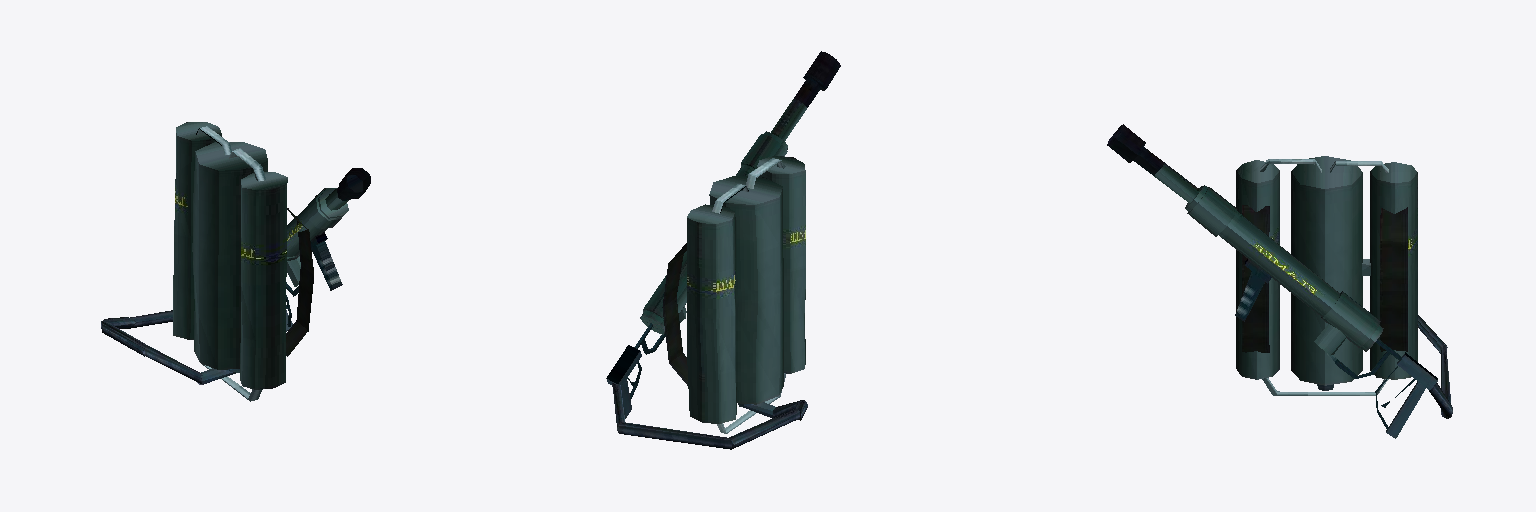
3 renders of one model, left to right at view 1: azimuth 30°, elevation 25°; view 2: azimuth 150°, elevation 25°; view 3: azimuth 270°, elevation 25°, orthographic.
Parts seen in each view (by area): view 1: Group; view 2: Group; view 3: Group.
Boxes of the visible parts, x1=… form: Group: x1=101, y1=122, x2=370, y2=401; Group: x1=606, y1=51, x2=840, y2=449; Group: x1=1107, y1=124, x2=1452, y2=438.
Bounding box in the file's own units: 39.39 × 56.62 × 63.03.
1 materials, 1 textured.